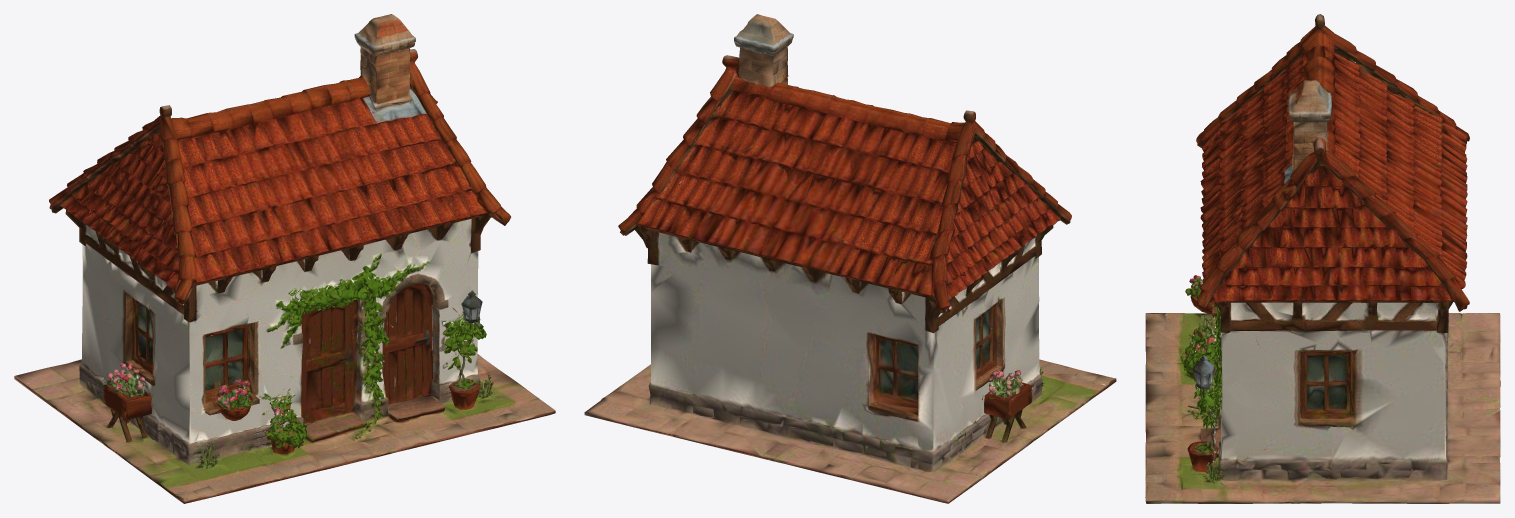
File: cottage.glb
3 renders of one model, left to right at view 1: azimuth 30°, elevation 25°; view 2: azimuth 150°, elevation 25°; view 3: azimuth 270°, elevation 25°, orthographic. The views are drawn at different scales.
Bounding box in the file's own units: 1.9 × 1.76 × 1.52.
Materials: 1 (1 with a texture image).
